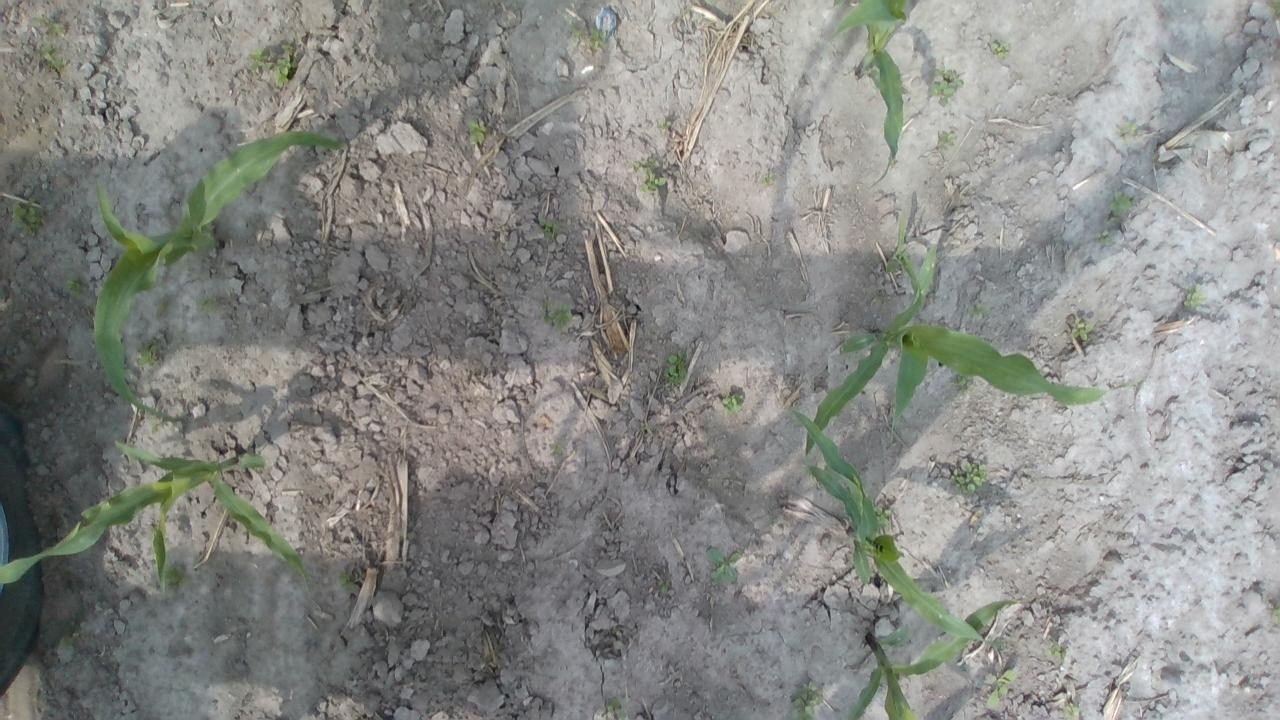Maize: (90, 127, 344, 420), (802, 241, 1112, 458), (1, 438, 316, 594), (790, 412, 986, 644), (844, 598, 1022, 718), (832, 1, 920, 192)
Weeds: (32, 15, 64, 69), (252, 45, 290, 87), (986, 666, 1018, 714), (790, 680, 824, 716), (709, 547, 741, 582), (954, 461, 986, 494), (11, 202, 43, 234), (134, 334, 160, 372), (936, 70, 964, 105), (544, 304, 574, 328), (638, 160, 662, 189), (668, 350, 687, 385), (574, 30, 606, 48), (602, 700, 630, 720), (1111, 196, 1131, 216), (1184, 290, 1202, 312), (875, 504, 892, 527), (726, 392, 745, 410), (194, 294, 213, 312), (1075, 322, 1095, 339), (469, 121, 486, 140), (1050, 644, 1070, 658), (1063, 705, 1080, 720), (66, 279, 80, 294), (991, 41, 1006, 54), (544, 224, 556, 238), (658, 580, 671, 592), (1124, 126, 1138, 136)
